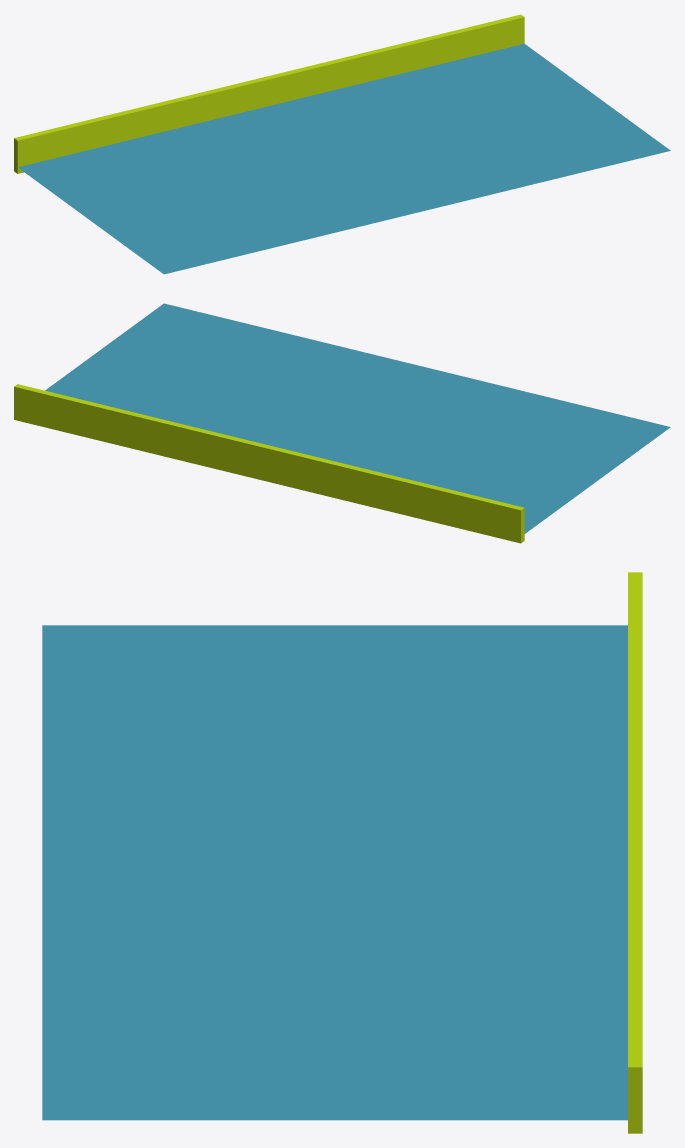
The model's file is arena.fbx.
3 renders of one model, top to bottom at view 1: azimuth 30°, elevation 25°; view 2: azimuth 150°, elevation 25°; view 3: azimuth 270°, elevation 25°, orthographic. The views are drawn at different scales.
Parts seen in each view (by area): view 1: floor, wall; view 2: floor, wall; view 3: floor, wall.
Part boxes in pixels (left/top/right/bottom): floor: left=18, top=43, right=670, bottom=274; wall: left=14, top=14, right=524, bottom=173; floor: left=45, top=303, right=670, bottom=533; wall: left=14, top=384, right=524, bottom=543; floor: left=42, top=625, right=627, bottom=1120; wall: left=628, top=572, right=642, bottom=1133.
Size of the model in its own units: 800 by 50 by 410.
